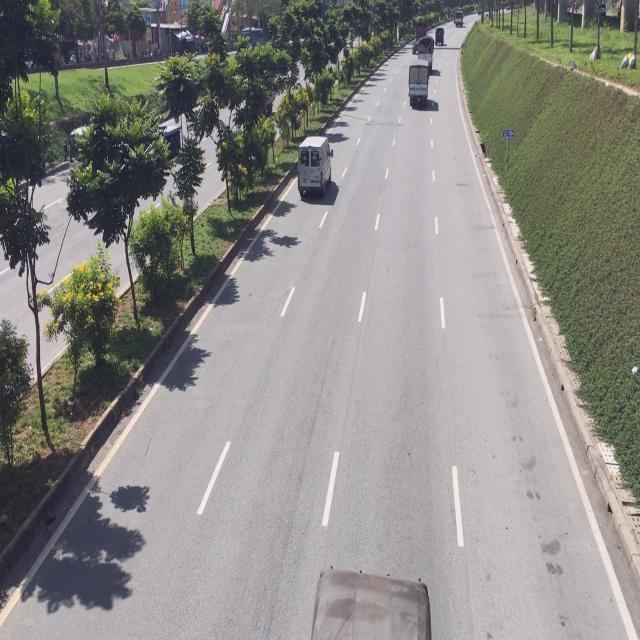bus: (300, 136, 332, 196)
truck: (408, 61, 431, 111)
